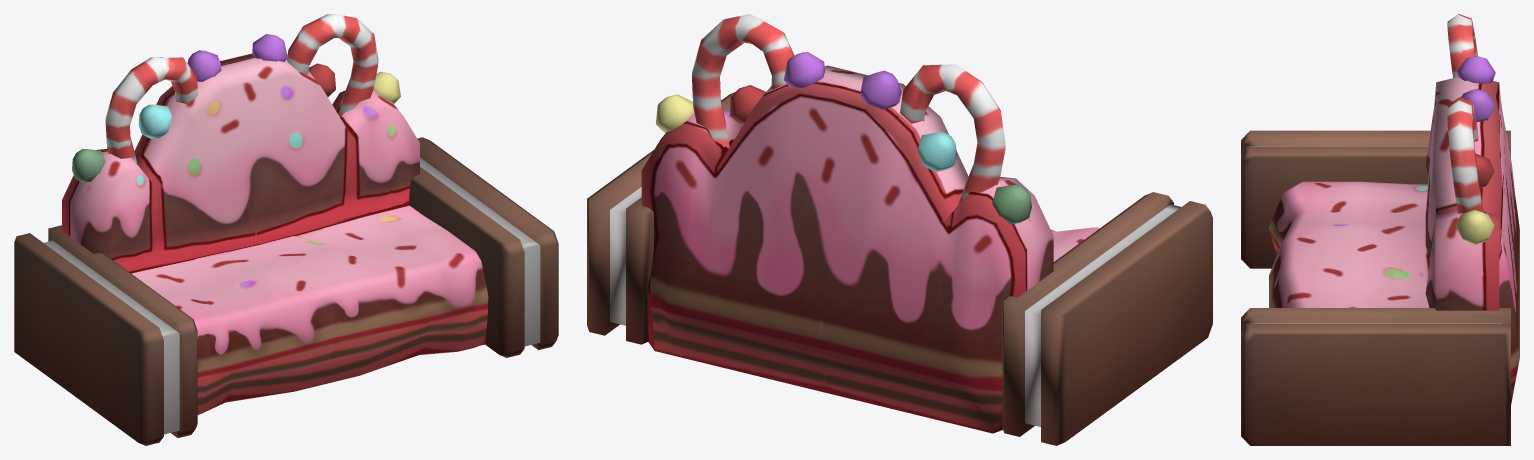
File: CandyCouch.obj
3 renders of one model, left to right at view 1: azimuth 30°, elevation 25°; view 2: azimuth 150°, elevation 25°; view 3: azimuth 270°, elevation 25°, orthographic. The views are drawn at different scales.
Visible parts, largest first — view 1: polySurface8; view 2: polySurface8; view 3: polySurface8.
Boxes of the visible parts, x1,y1,x2,y2 form: polySurface8: (14,14,558,445); polySurface8: (587,14,1212,445); polySurface8: (1241,14,1519,445).
Bounding box in the file's own units: 6.36 × 4.22 × 3.67.
1 material, 1 textured.
